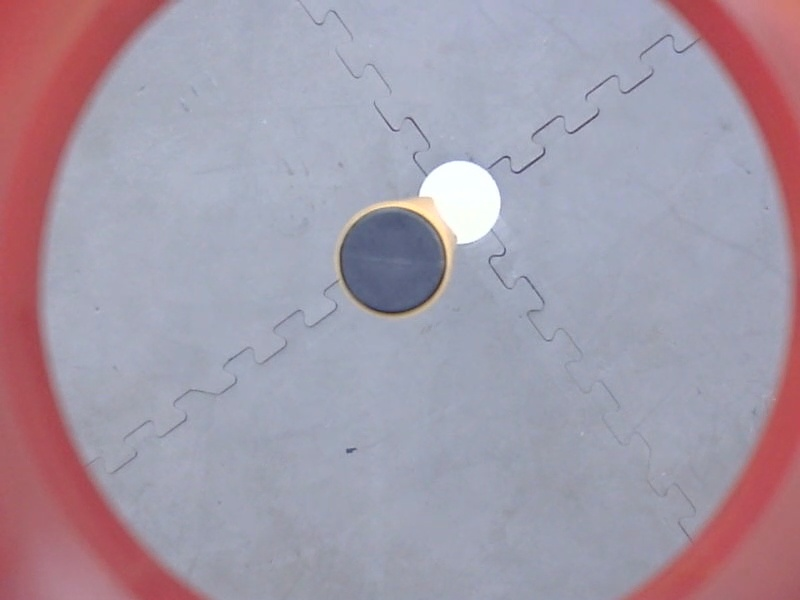tip: (329, 199, 456, 327)
